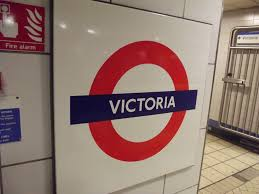London Underground: (69, 42, 197, 159)
